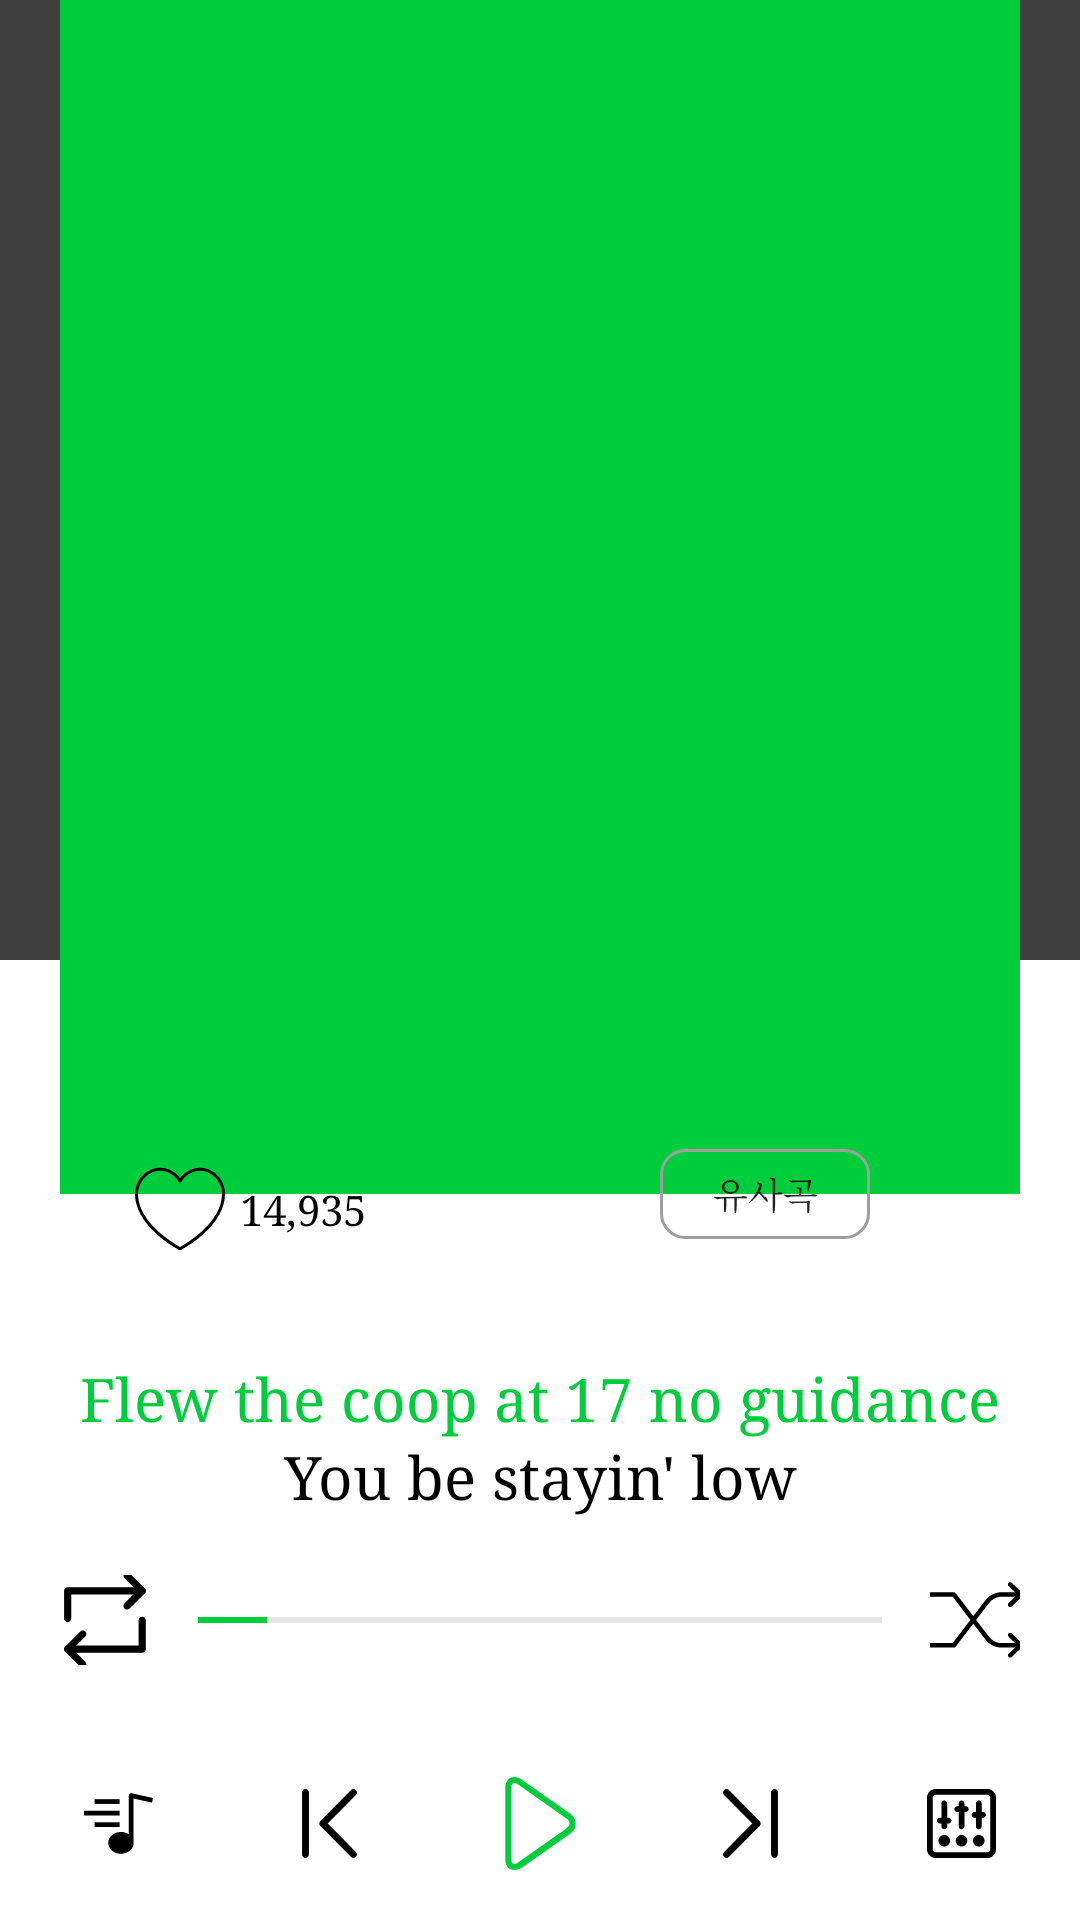

Screen size 1080 x 1920. Icon name, then its center in pixels as [x,y]:
heart: [180,1209]
mixer: [961,1823]
play: [540,1823]
playlist: [118,1823]
random: [975,1620]
repeat: [105,1620]
